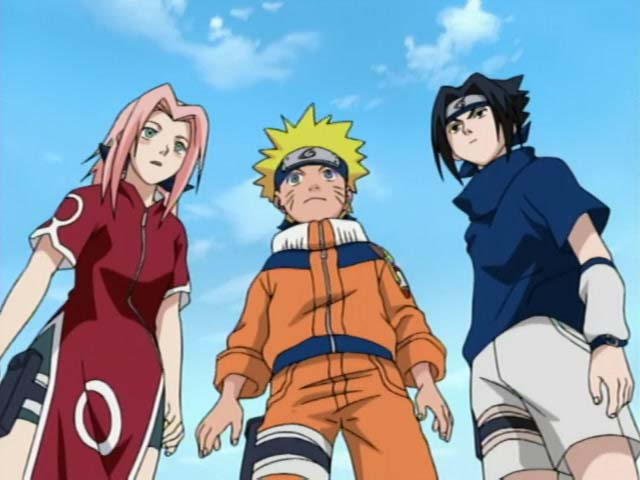naruto: (269, 142, 356, 228)
sakura: (122, 88, 212, 192)
sasuke: (435, 94, 517, 168)
